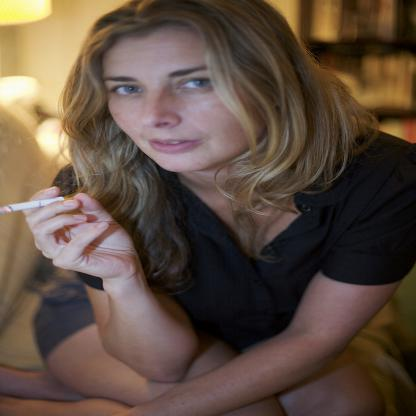smoking: (0, 197, 65, 213)
